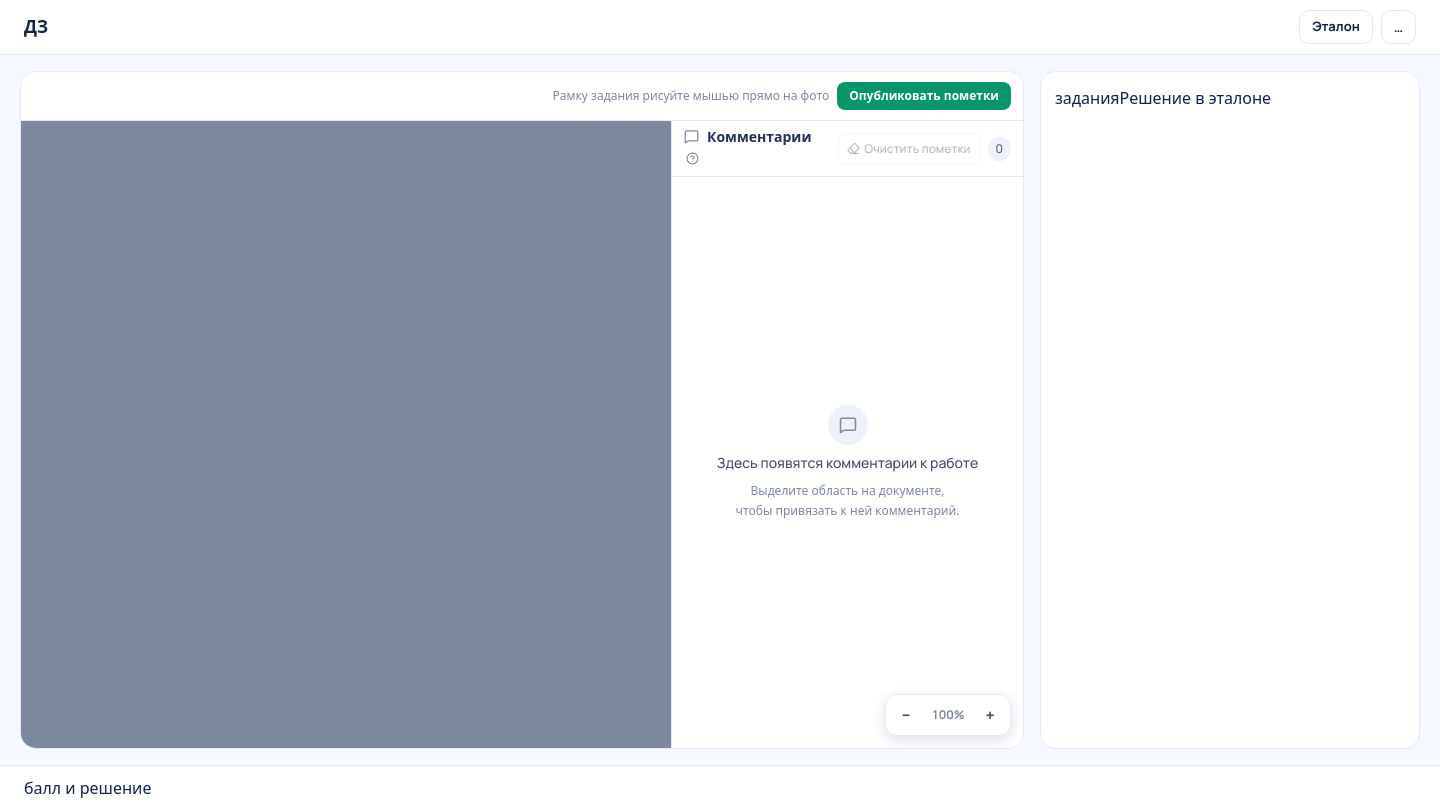
§248. Эталон по запросу: панель поверх фото или блок снизу › хранилище недоступно — «сбоку», переключение работает, экран не падает
Click the button with test id "attempt-reference-toggle" at x=1336, y=27, box [1299,10,1373,44]
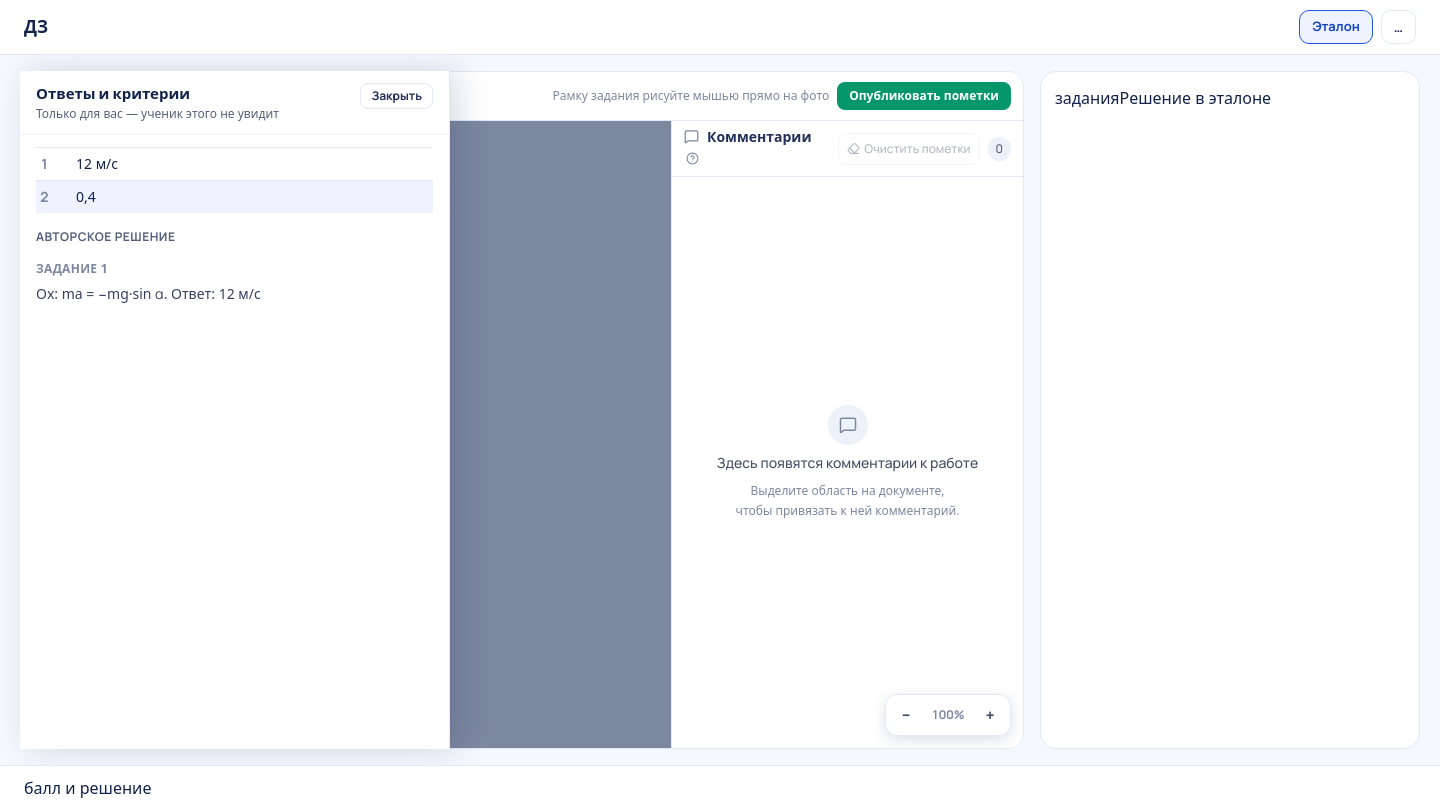
Result: the element with test id "solution-reference-drawer" is shown at [20,71,450,749]
Click the button with test id "attempt-more-menu" at x=1398, y=27, box [1381,10,1416,44]
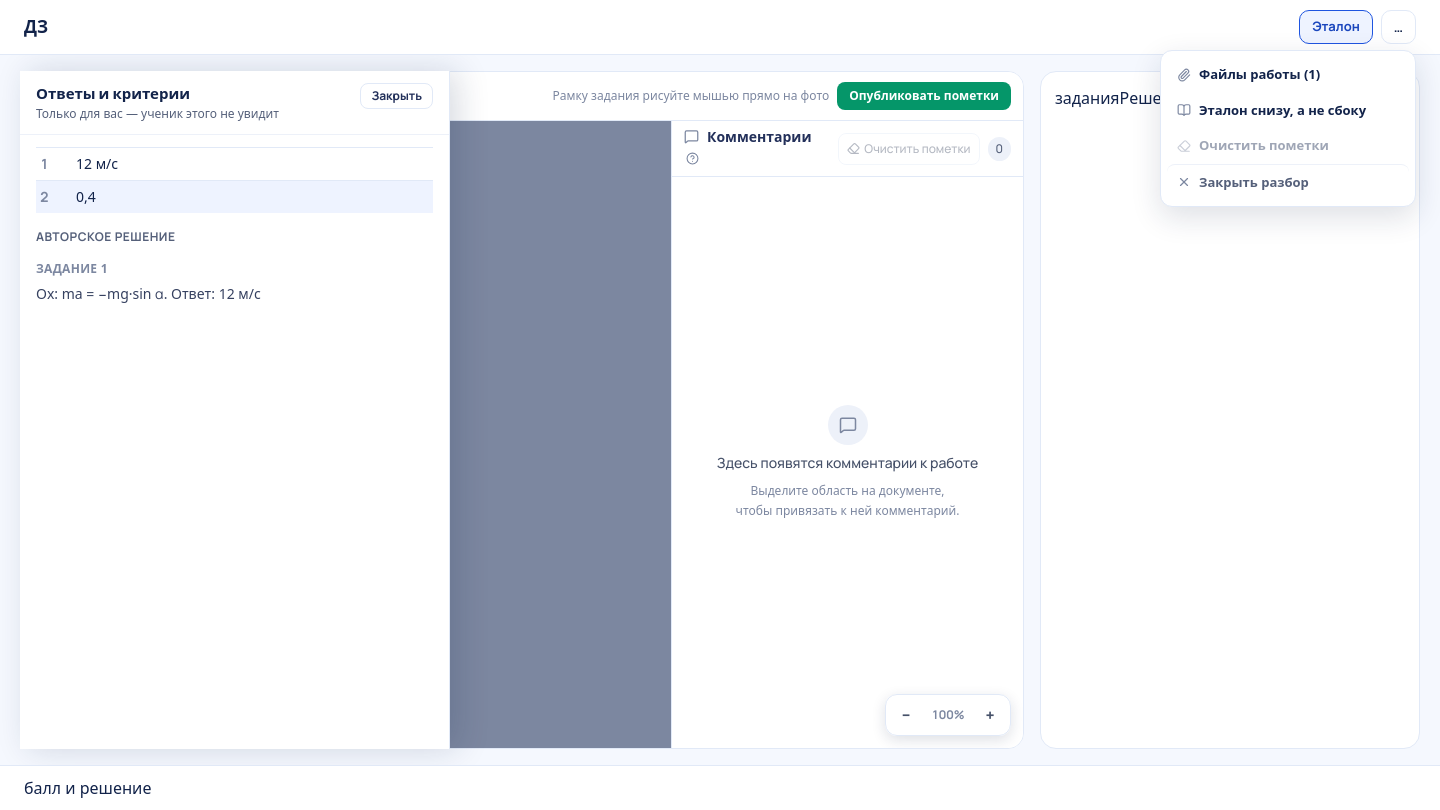
Click the menu item with test id "reference-placement-toggle" at x=1288, y=110, box [1167,92,1409,128]
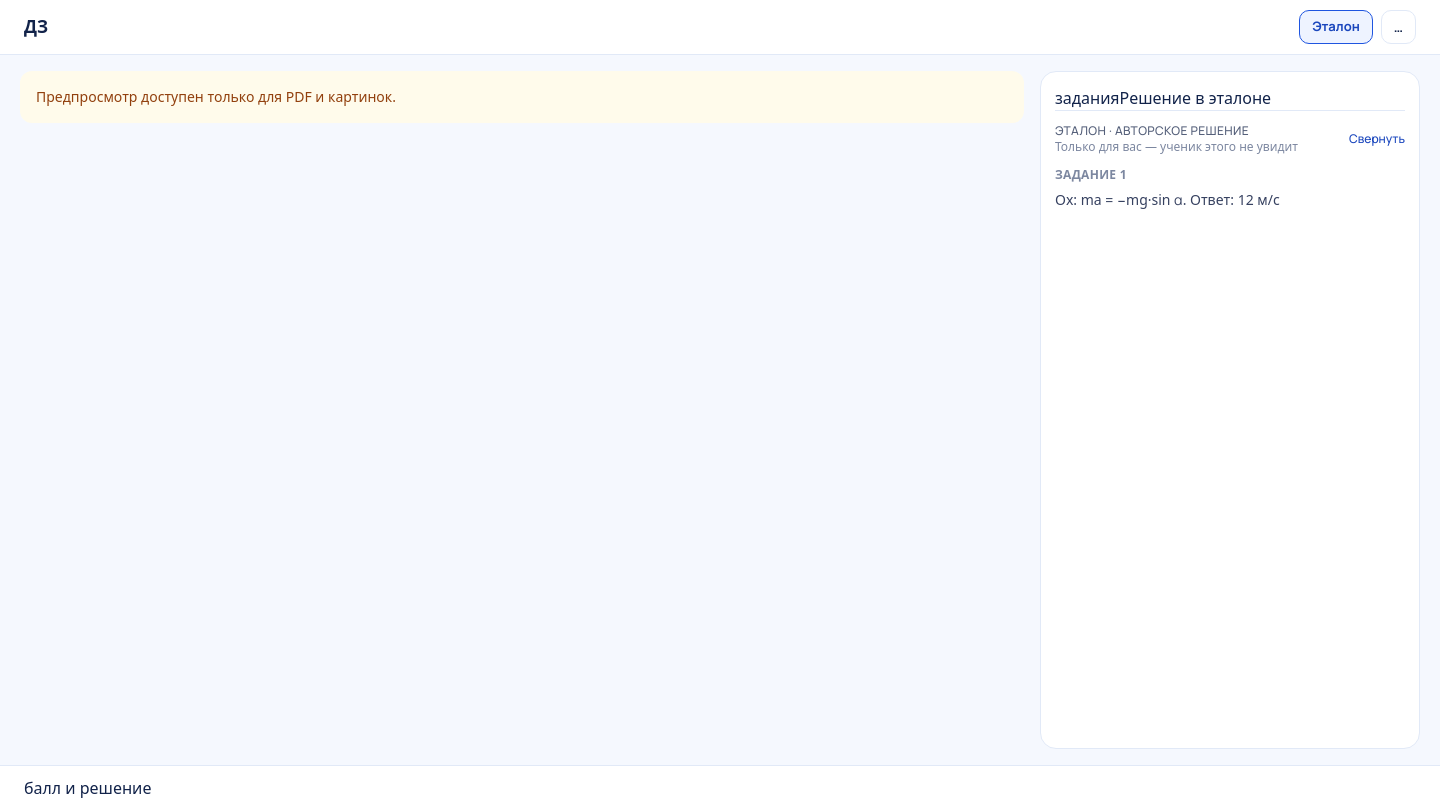
Result: the element with test id "solution-reference-panel" is shown at [1055,110,1405,212]
